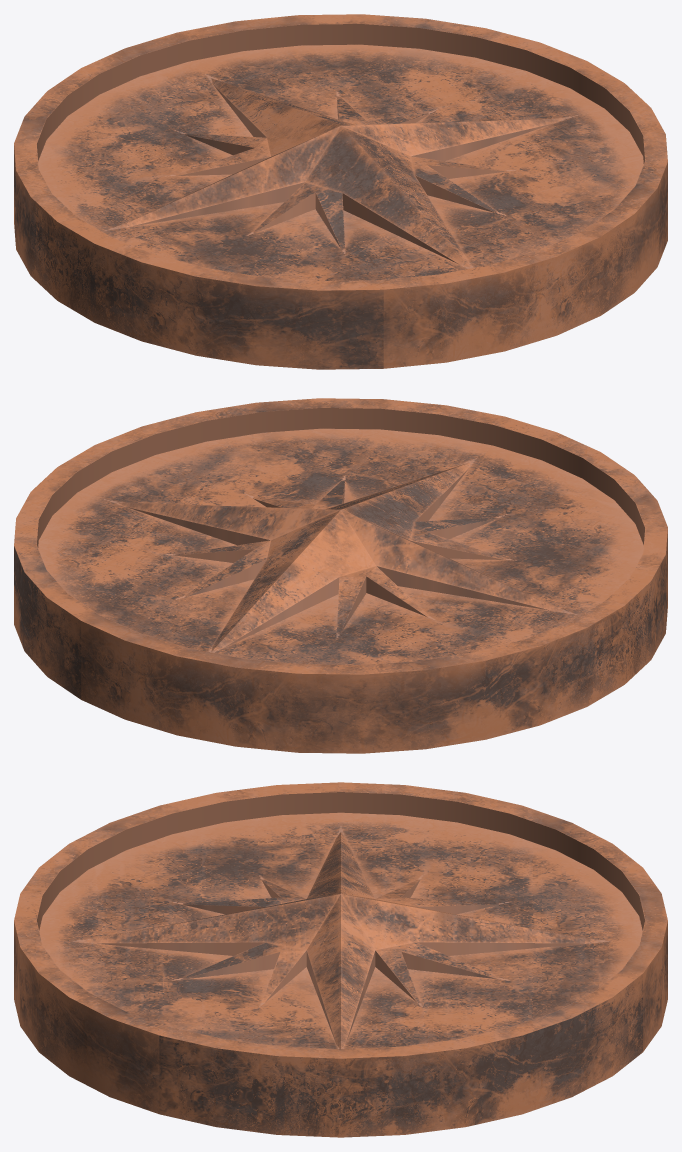
The model's file is coinBaseBronse.fbx.
The picture shows the model from 3 angles, top to bottom: view 1: azimuth 30°, elevation 25°; view 2: azimuth 150°, elevation 25°; view 3: azimuth 270°, elevation 25°; orthographic projection.
Visible parts, largest first — view 1: coinBaseBronse; view 2: coinBaseBronse; view 3: coinBaseBronse.
Boxes of the visible parts, x1,y1,x2,y2 form: coinBaseBronse: (14, 14, 667, 369); coinBaseBronse: (14, 398, 667, 753); coinBaseBronse: (14, 782, 667, 1137).
Bounding box in the file's own units: 50.66 × 11.39 × 50.66.
